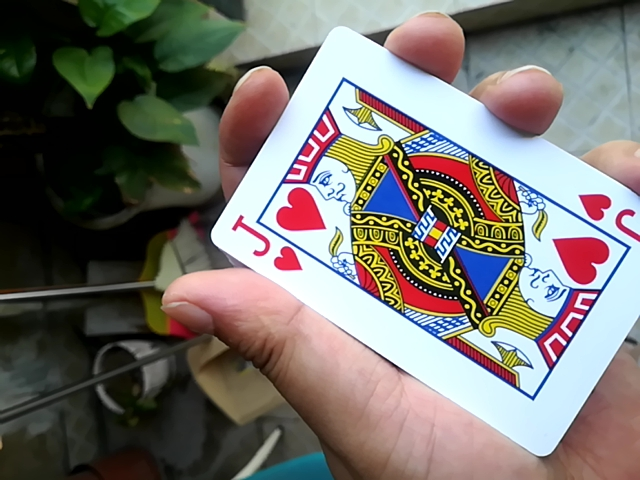hx j: (199, 22, 639, 460)
